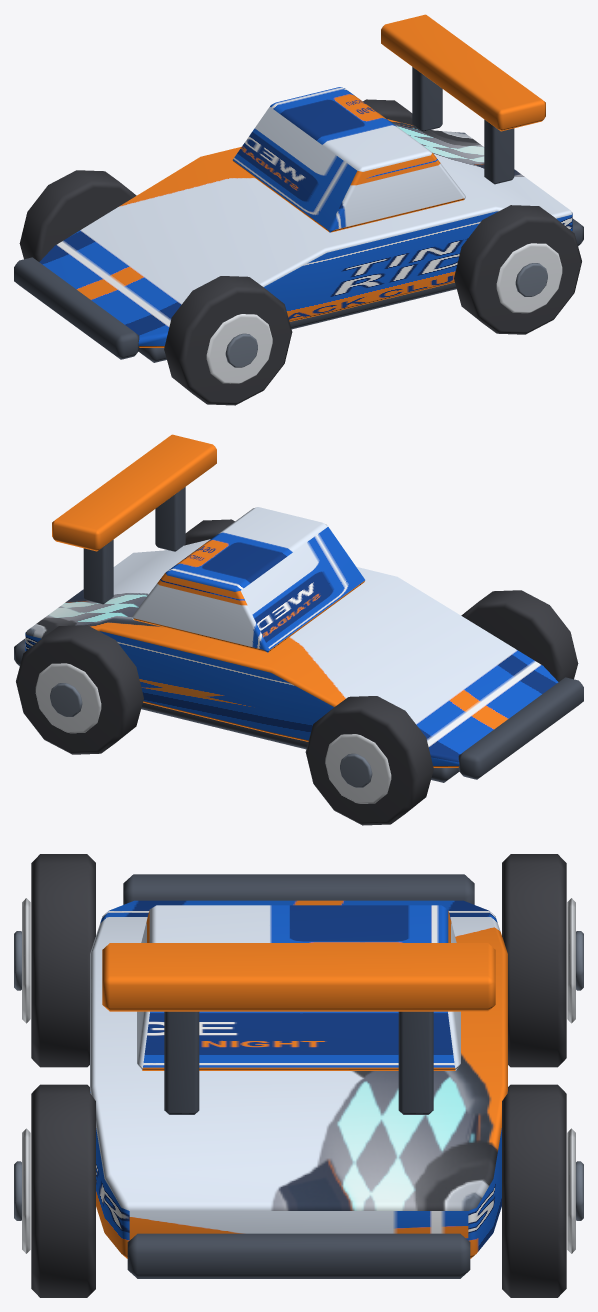
3 renders of one model, top to bottom at view 1: azimuth 30°, elevation 25°; view 2: azimuth 150°, elevation 25°; view 3: azimuth 270°, elevation 25°, orthographic. The views are drawn at different scales.
Parts seen in each view (by area): view 1: TC-02_connected_shell, TC-02_cabin, Tire, Tire.002, rear airfoil, Tire.001, front bumper, Rim, Rim.002, wing support, underbody, wing support.001 (+3 smaller); view 2: TC-02_connected_shell, TC-02_cabin, Tire.001, Tire.003, rear airfoil, Tire, front bumper, Rim.001, Rim.003, wing support.001, underbody, wing support (+3 smaller); view 3: TC-02_connected_shell, rear airfoil, TC-02_cabin, rear bumper, Tire.002, Tire.003, Tire, Tire.001, front bumper, wing support, wing support.001, Rim (+3 smaller).
Boxes of the visible parts, x1,y1,x2,y2 form: TC-02_connected_shell: (39,119,572,347); TC-02_cabin: (232,87,465,232); Tire: (164,276,292,405); Tire.002: (454,205,581,334); rear airfoil: (381,14,545,131); Tire.001: (19,170,136,261); front bumper: (14,257,139,359); Rim: (206,314,272,383); Rim.002: (496,243,562,313); wing support: (484,119,514,184); underbody: (138,282,456,362); wing support.001: (412,67,442,131); TC-02_connected_shell: (25,539,558,767); TC-02_cabin: (132,507,365,652); Tire.001: (305,696,433,825); Tire.003: (16,625,143,754); rear airfoil: (52,434,216,551); Tire: (461,590,578,681); front bumper: (458,677,583,779); Rim.001: (325,734,391,803); Rim.003: (35,663,101,733); wing support.001: (83,539,113,604); underbody: (141,702,459,782); wing support: (155,487,185,551); TC-02_connected_shell: (90,900,507,1258); rear airfoil: (102,943,495,1011); TC-02_cabin: (137,905,460,1070); rear bumper: (127,1233,470,1278); Tire.002: (31,1084,95,1297); Tire.003: (502,1084,566,1297); Tire: (31,854,95,1067); Tire.001: (502,854,566,1067); front bumper: (123,874,474,904); wing support: (164,1011,199,1114); wing support.001: (398,1011,433,1114); Rim: (22,898,30,1023).
Size of the model in its own units: 355 by 152 by 229.
